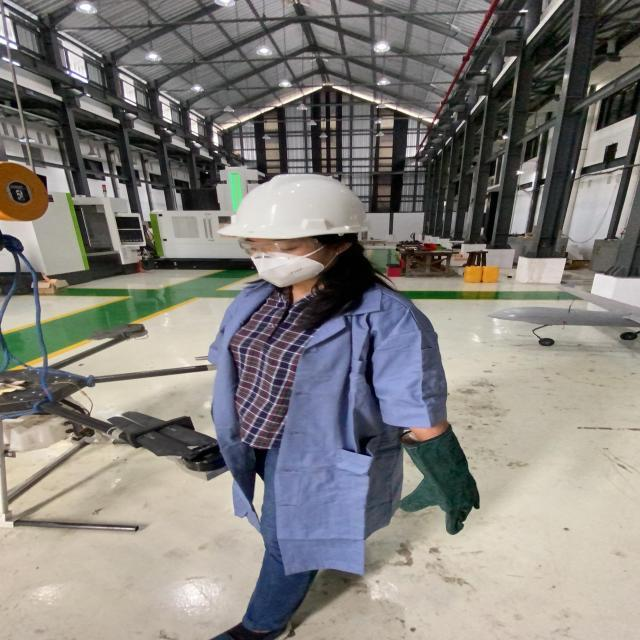glasses: (235, 231, 323, 260)
